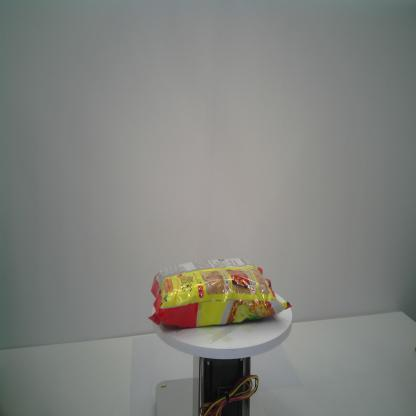Instant Noodles: (147, 255, 293, 330)
